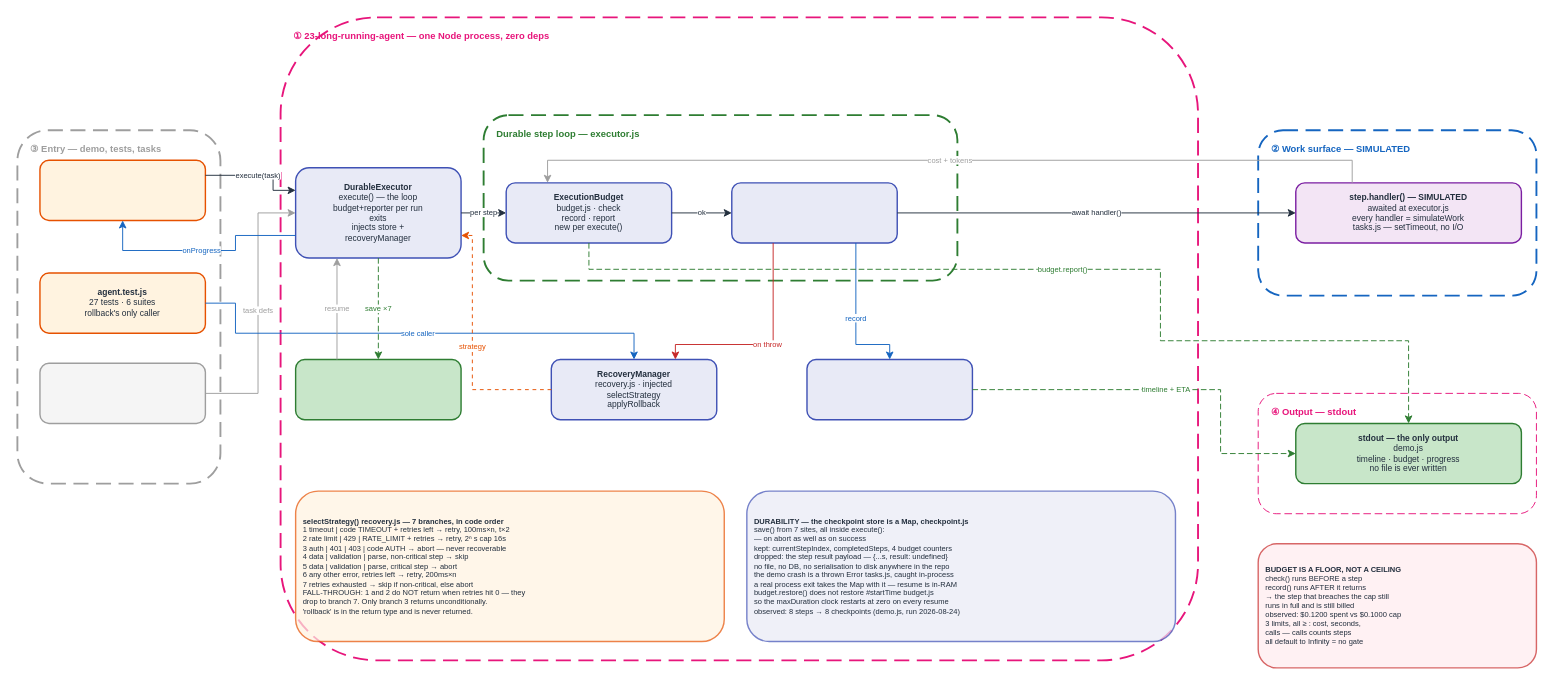
This 1553x684 diagram has some shape labels left out. Each missing label, with the centre of its shape:
#executeStep() executor.js setTimeout + clearTimeout: the point at 814,212
CheckpointStore checkpoint.js — Map IN-MEMORY, not durable save · load: the point at 378,389
demo.js 4 scenarios · main: the point at 122,190
ProgressReporter progress.js · per run record · 6 icons timeline · ETA: the point at 889,389
tasks.js — 4 tasks 24 steps · SIMULATED setTimeout only: the point at 122,393
